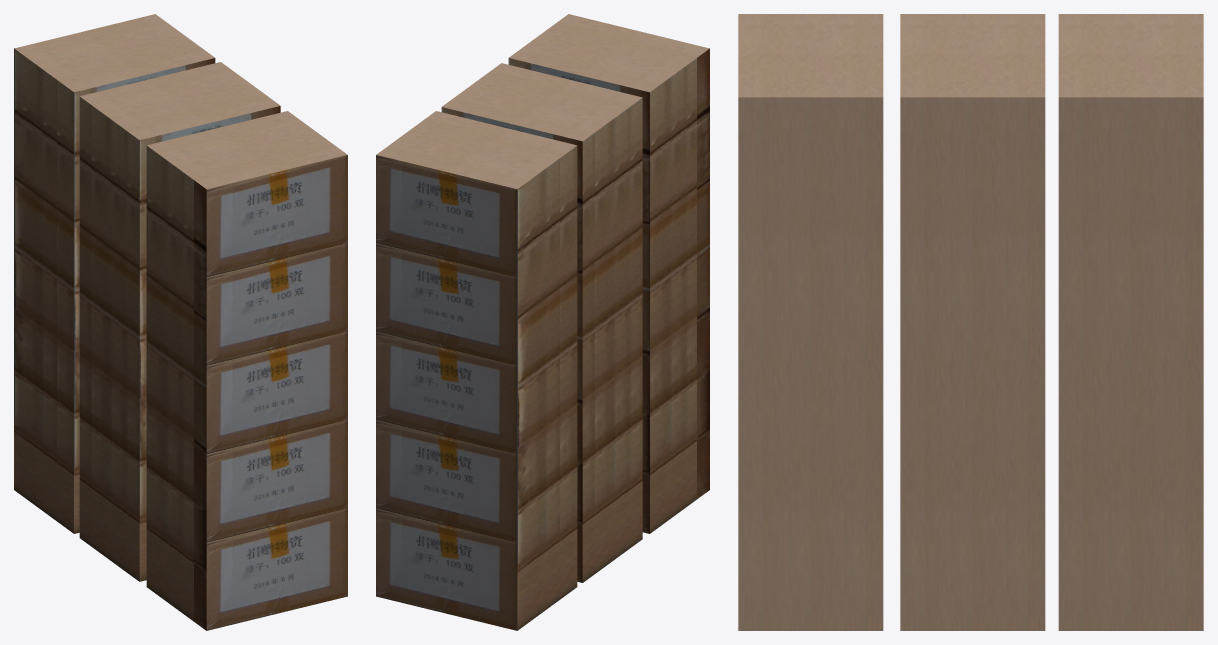
The model's file is wazi.FBX.
3 views of the same model, side by side, from view 1: azimuth 30°, elevation 25°; view 2: azimuth 150°, elevation 25°; view 3: azimuth 270°, elevation 25° (orthographic). The views are drawn at different scales.
Parts seen in each view (by area): view 1: Box3842; view 2: Box3842; view 3: Box3842.
Boxes of the visible parts, x1,y1,x2,y2 form: Box3842: (14,14,347,630); Box3842: (376,14,709,630); Box3842: (738,14,1203,630).
Size of the model in its own units: 0.3925 by 0.926 by 1.17.
